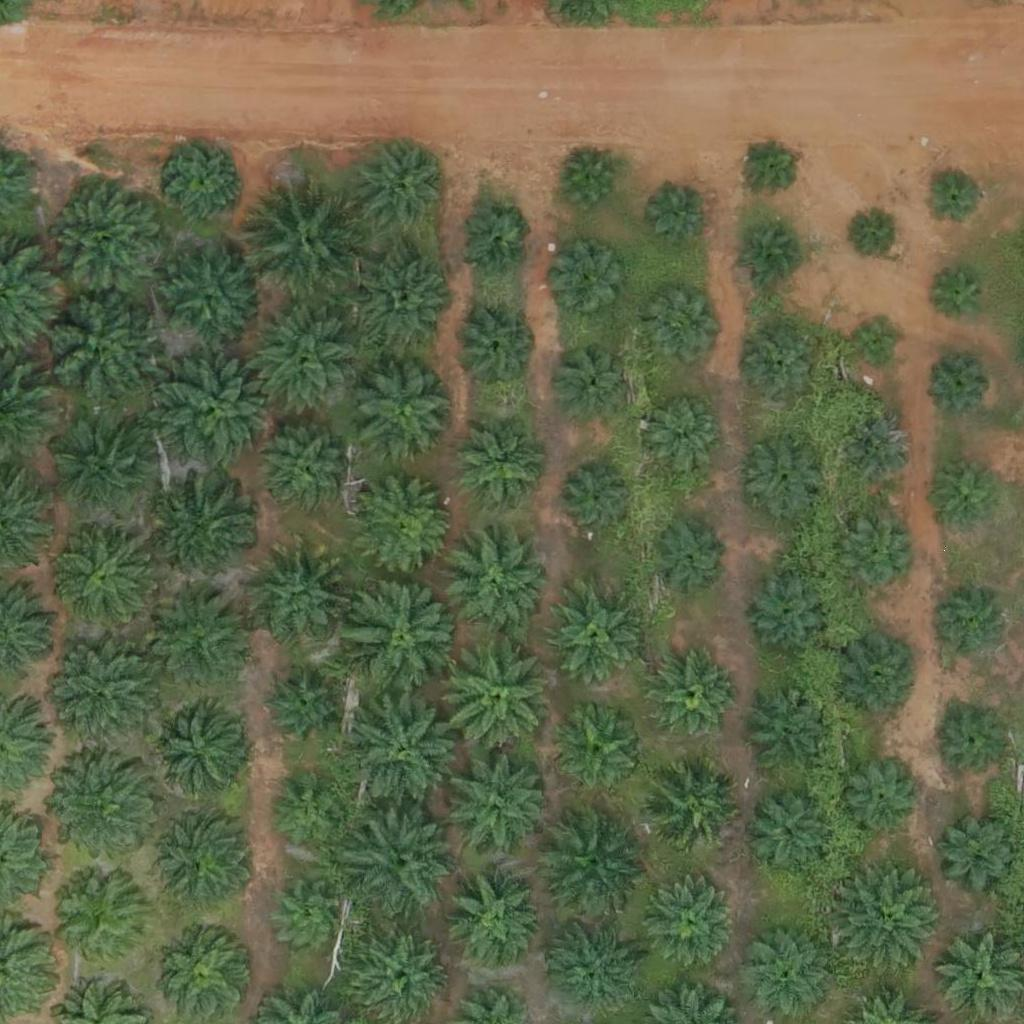Kelapa_Sawit: (46, 174, 171, 300), (34, 285, 159, 411), (39, 632, 164, 758), (154, 349, 279, 475), (245, 175, 370, 301), (241, 298, 366, 424), (343, 574, 468, 700), (343, 687, 468, 813), (435, 634, 560, 760), (345, 804, 458, 917), (42, 756, 155, 869), (536, 807, 648, 921), (54, 421, 154, 522), (55, 522, 155, 623), (162, 477, 262, 578), (150, 582, 250, 683), (253, 545, 353, 646), (840, 867, 940, 968), (444, 867, 544, 968), (146, 699, 246, 800), (148, 811, 248, 912), (51, 868, 151, 969), (160, 246, 260, 346), (350, 138, 450, 238), (354, 254, 454, 354), (354, 361, 454, 461), (356, 478, 456, 578), (447, 534, 547, 634), (541, 585, 641, 685), (644, 761, 744, 861), (638, 876, 738, 976), (449, 753, 549, 853), (741, 432, 829, 520), (836, 632, 924, 720), (456, 424, 544, 512), (745, 572, 833, 660), (933, 809, 1021, 897), (554, 709, 642, 797), (548, 926, 636, 1014), (451, 303, 538, 391), (262, 428, 349, 516), (650, 653, 737, 741), (745, 691, 832, 779), (747, 789, 834, 877), (645, 394, 720, 470), (555, 342, 630, 418), (560, 461, 635, 537), (649, 517, 724, 593), (167, 143, 242, 219), (455, 203, 530, 279), (553, 245, 628, 320), (646, 287, 721, 362), (744, 331, 819, 406), (272, 878, 347, 953), (271, 774, 346, 849), (938, 707, 1013, 782), (926, 591, 1001, 666), (836, 517, 911, 592), (264, 671, 339, 746), (843, 416, 918, 491), (844, 765, 919, 840), (738, 135, 801, 198), (739, 224, 802, 287), (936, 464, 999, 527), (558, 151, 620, 214), (648, 184, 710, 247), (923, 166, 985, 229), (927, 266, 989, 329), (927, 353, 989, 416), (853, 210, 903, 261), (852, 316, 902, 367)
